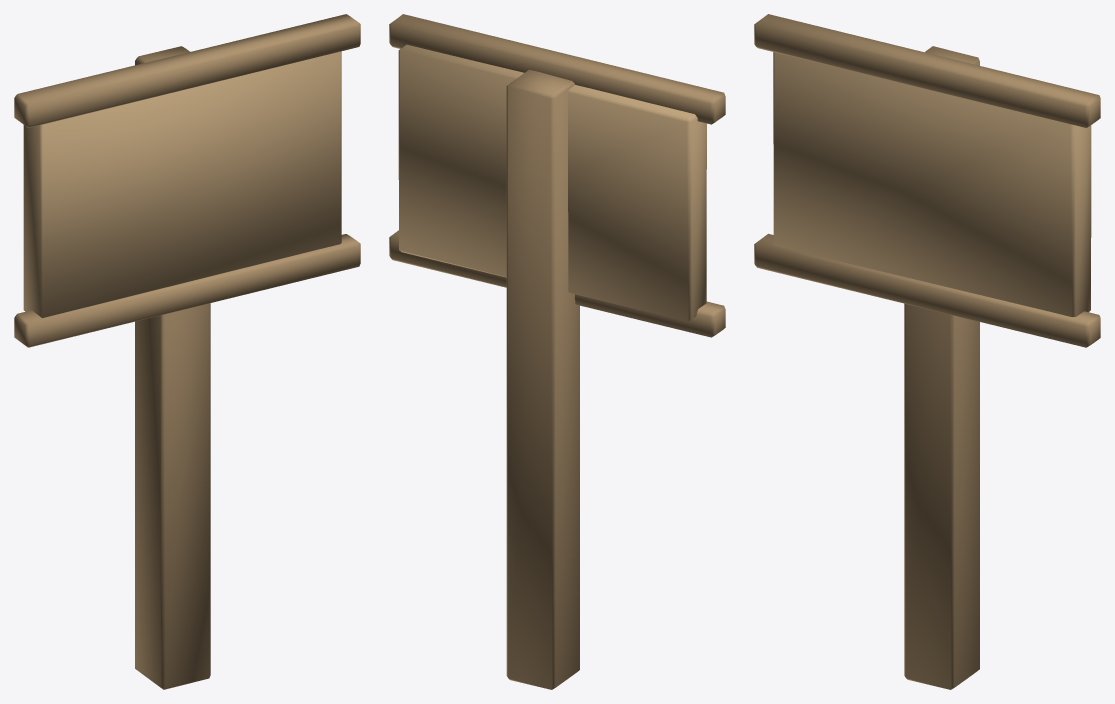
The model's file is prop_sign.glb.
3 renders of one model, left to right at view 1: azimuth 30°, elevation 25°; view 2: azimuth 150°, elevation 25°; view 3: azimuth 330°, elevation 25°, orthographic. The views are drawn at different scales.
Parts seen in each view (by area): view 1: prop_sign; view 2: prop_sign; view 3: prop_sign.
Boxes of the visible parts, x1,y1,x2,y2 form: prop_sign: [14, 14, 360, 689]; prop_sign: [389, 14, 725, 689]; prop_sign: [754, 14, 1100, 689].
Bounding box in the file's own units: 0.8 × 1.43 × 0.15.
